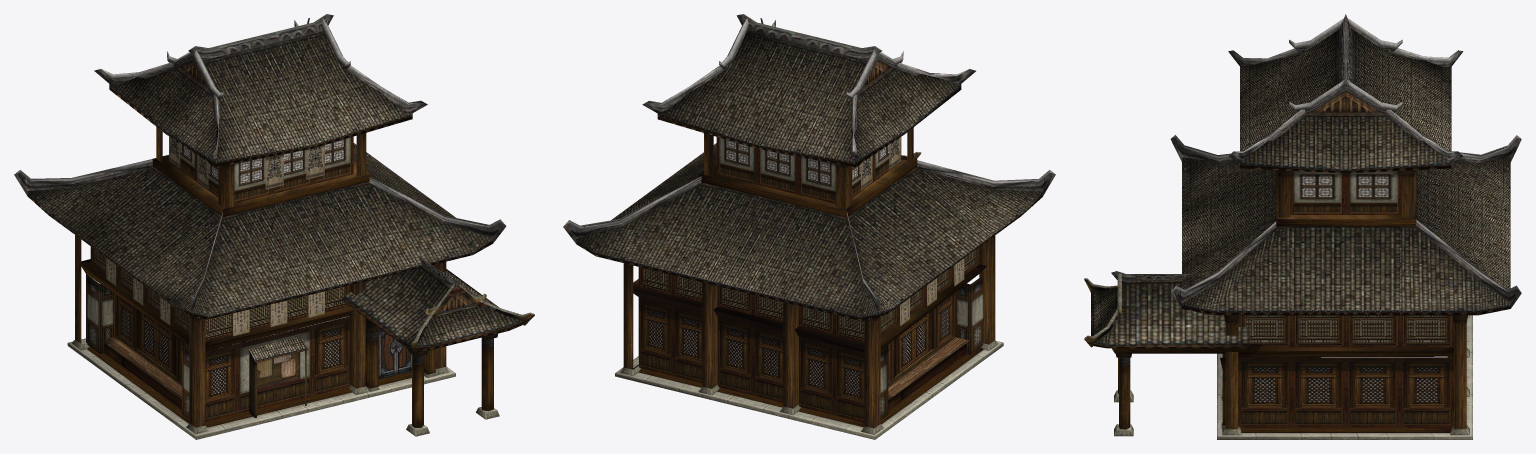
File: b1-011-workhouse_lod_01.glb
3 renders of one model, left to right at view 1: azimuth 30°, elevation 25°; view 2: azimuth 150°, elevation 25°; view 3: azimuth 270°, elevation 25°, orthographic.
Visible parts, largest first — view 1: b1-011-workhouse-01, b1-011-workhouse-02, b1-011-workhouse-03; view 2: b1-011-workhouse-01, b1-011-workhouse-02, b1-011-workhouse-03; view 3: b1-011-workhouse-01, b1-011-workhouse-02, b1-011-workhouse-03.
Boxes of the visible parts, <box> form: b1-011-workhouse-01: <box>14,14,506,436</box>; b1-011-workhouse-02: <box>86,136,411,421</box>; b1-011-workhouse-03: <box>67,155,534,439</box>; b1-011-workhouse-01: <box>563,14,1055,434</box>; b1-011-workhouse-02: <box>638,137,983,422</box>; b1-011-workhouse-03: <box>615,152,1003,439</box>; b1-011-workhouse-01: <box>1114,14,1521,436</box>; b1-011-workhouse-02: <box>1238,171,1453,427</box>; b1-011-workhouse-03: <box>1084,170,1472,439</box>.
Size of the model in its own units: 13.51 by 13.51 by 16.22.
3 materials, 3 textured.
